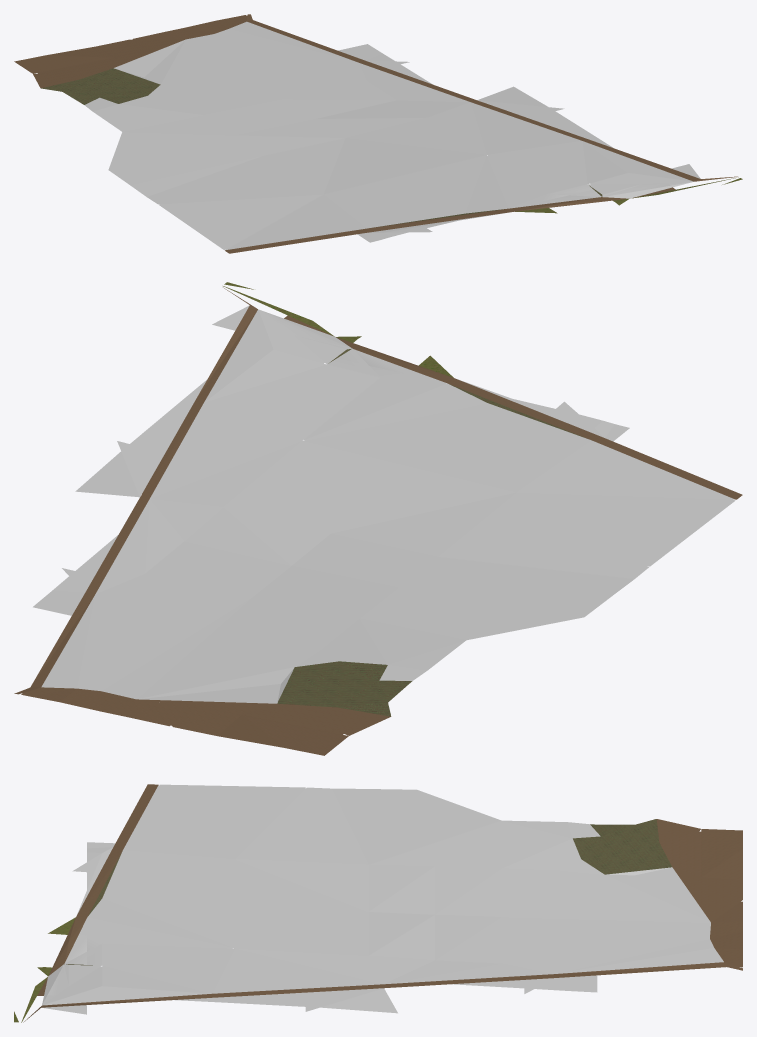
Rendered from Terreno007.fbx.
3 renders of one model, top to bottom at view 1: azimuth 30°, elevation 25°; view 2: azimuth 150°, elevation 25°; view 3: azimuth 270°, elevation 25°, orthographic. The views are drawn at different scales.
Parts seen in each view (by area): view 1: Terreno.007; view 2: Terreno.007; view 3: Terreno.007.
Part boxes in pixels (bbox=[...]): Terreno.007: bbox=[14, 14, 742, 253]; Terreno.007: bbox=[14, 282, 742, 755]; Terreno.007: bbox=[14, 784, 742, 1022].
Size of the model in its own units: 40000 by 2885 by 50000.
